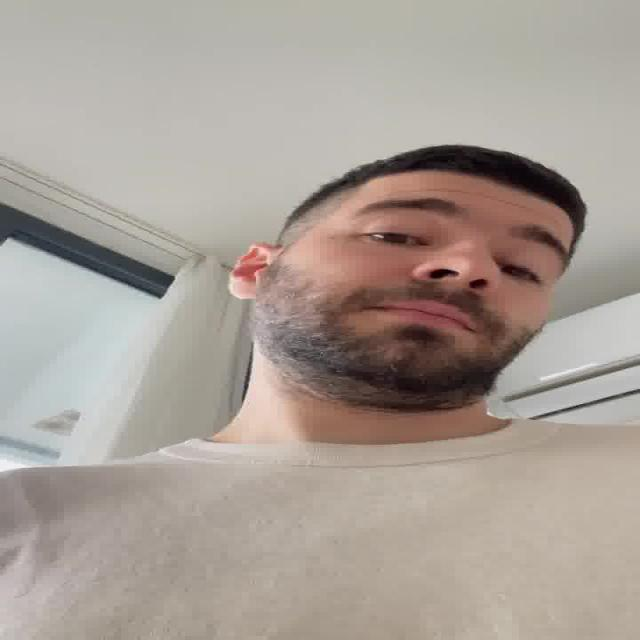earlobe: (228, 280, 260, 300)
eye: (356, 230, 434, 246), (494, 260, 545, 284)
nose: (416, 277, 490, 305)
wholeear: (228, 242, 282, 300)
